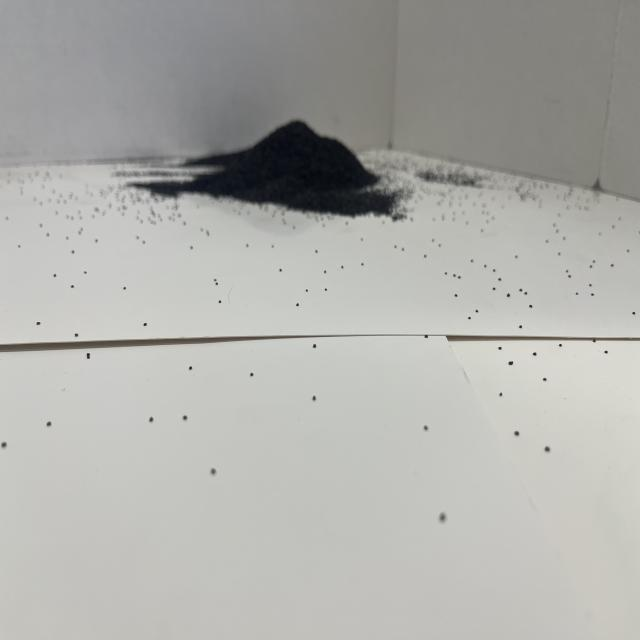Poppy Seeds: (150, 69, 399, 246)
